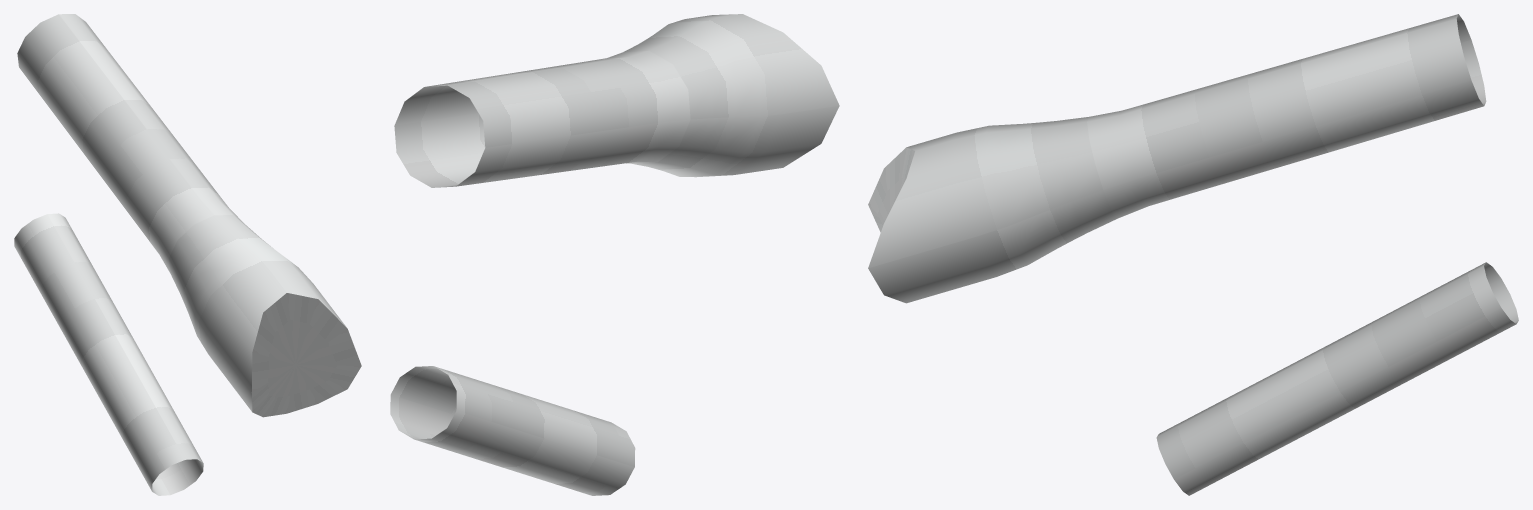
Rendered from luminairearm_truss12ftstraightdouble_c0_pedestal.obj.
3 views of the same model, side by side, from view 1: azimuth 30°, elevation 25°; view 2: azimuth 150°, elevation 25°; view 3: azimuth 270°, elevation 25° (orthographic). The views are drawn at different scales.
Visible parts, largest first — view 1: luminairearm_truss12ftstraightdouble_c0_pedestal; view 2: luminairearm_truss12ftstraightdouble_c0_pedestal; view 3: luminairearm_truss12ftstraightdouble_c0_pedestal.
Boxes of the visible parts, box(x1,y1,x2,y2) form: luminairearm_truss12ftstraightdouble_c0_pedestal: box(14, 14, 361, 495); luminairearm_truss12ftstraightdouble_c0_pedestal: box(390, 14, 839, 495); luminairearm_truss12ftstraightdouble_c0_pedestal: box(868, 14, 1518, 495).
Size of the model in its own units: 0.3375 by 1.17 by 1.46.
